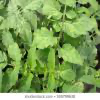Tomato leaf mosaic virus: (62, 13, 95, 37), (25, 26, 57, 49), (57, 43, 84, 66), (1, 65, 21, 91), (22, 7, 39, 32), (17, 18, 32, 45), (42, 1, 62, 21), (59, 63, 78, 83), (7, 41, 22, 66), (27, 43, 39, 70), (78, 73, 96, 86), (47, 46, 56, 71), (48, 72, 56, 93), (66, 10, 76, 20)
